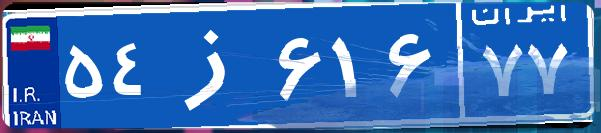1: (330, 28, 385, 110)
4: (110, 28, 158, 105)
5: (57, 26, 110, 107)
6: (385, 28, 445, 110), (273, 28, 330, 110)
7: (475, 38, 525, 113), (525, 38, 570, 115)
ز: (158, 15, 273, 115)
